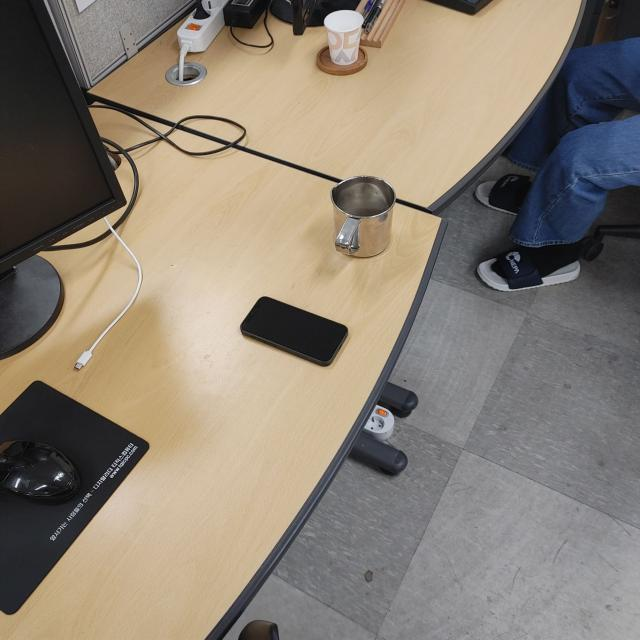cup: (330, 172, 396, 260)
phone: (242, 296, 348, 367)
